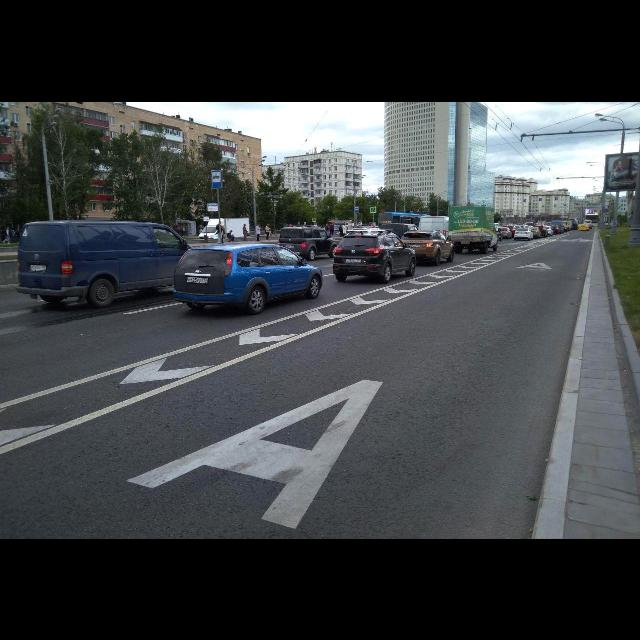road: (0, 230, 594, 538)
